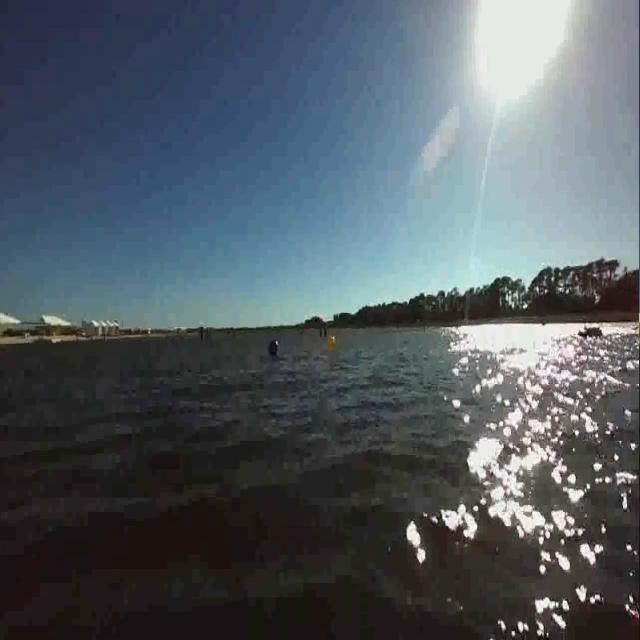blue-buoy: (269, 339, 280, 357)
yellow-buoy: (327, 335, 335, 350)
